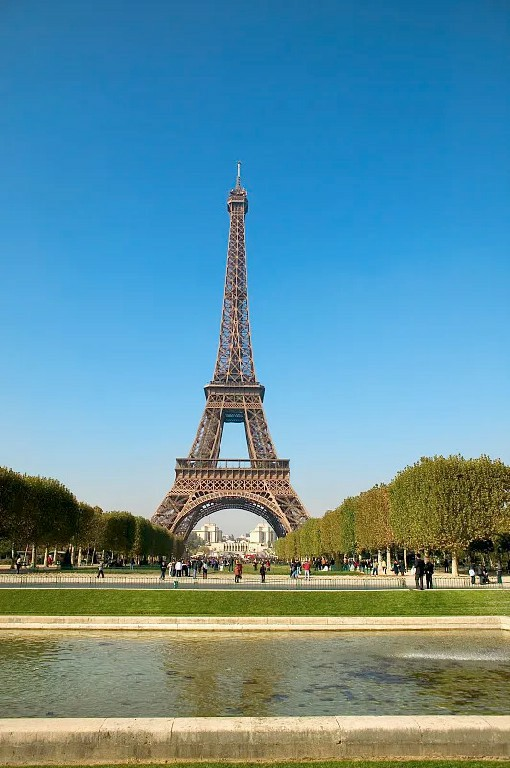Eiffel: (149, 161, 312, 547)
